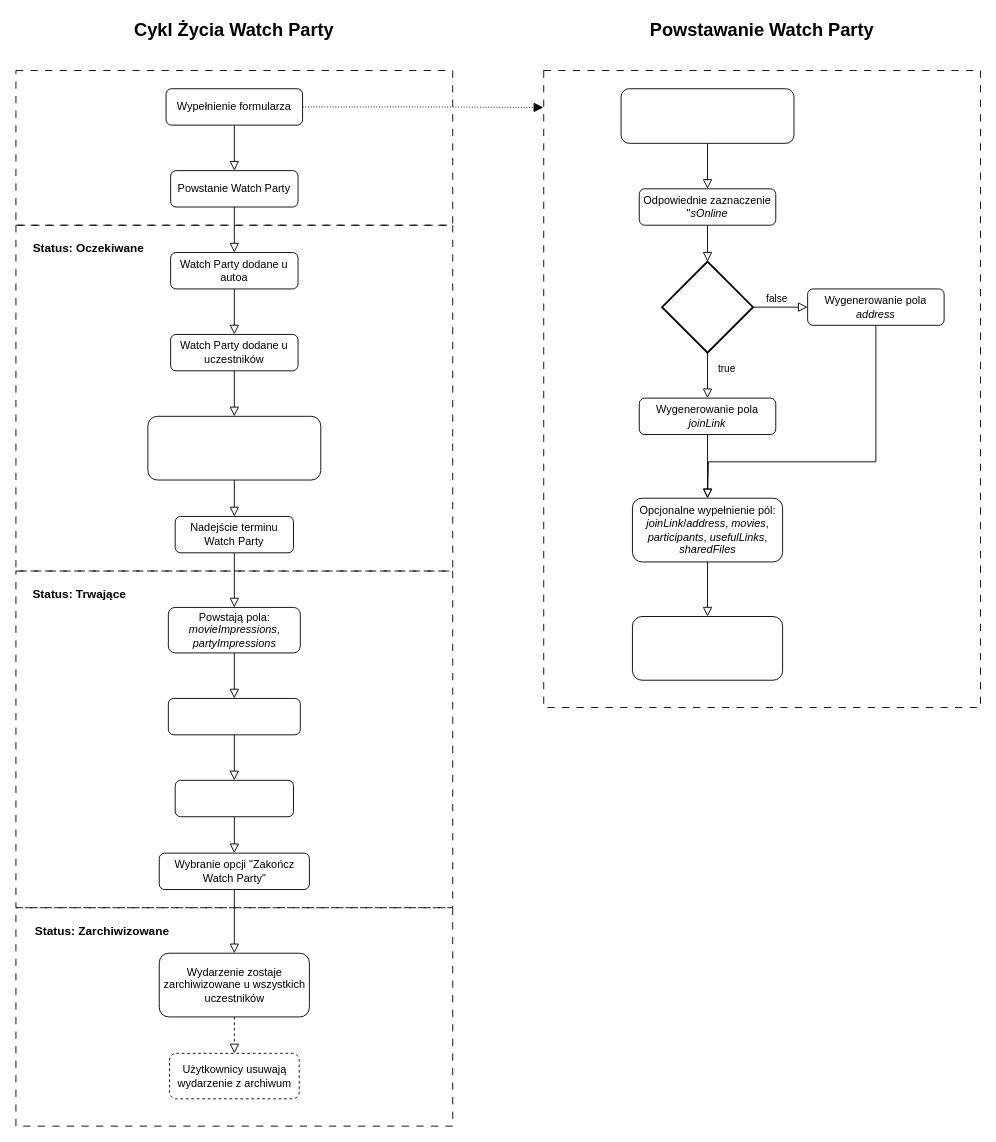
The diagram is 996 pixels wide and 1142 high, and some of its shapes have lost their labels. The shapes that lost their labels are listed below. From the top down, each one's centre as x and y in pixels, then its label:
At pixel 707 115: "Wypełnienie podstawowych pól obowiązkowych: name , description , startDate".
At pixel 707 306: "isOnline".
At pixel 234 447: "Wprowadzanie zmian: (dodawanie osób, filmów, linków, plików)".
At pixel 707 648: "Automatyczne wypełnienie pól: creationDate , authorId , status, _id".
At pixel 233 716: "Uczestnicy oglądają filmy (poza aplikacją)".
At pixel 233 798: "Uczestnicy dodają opinie".
